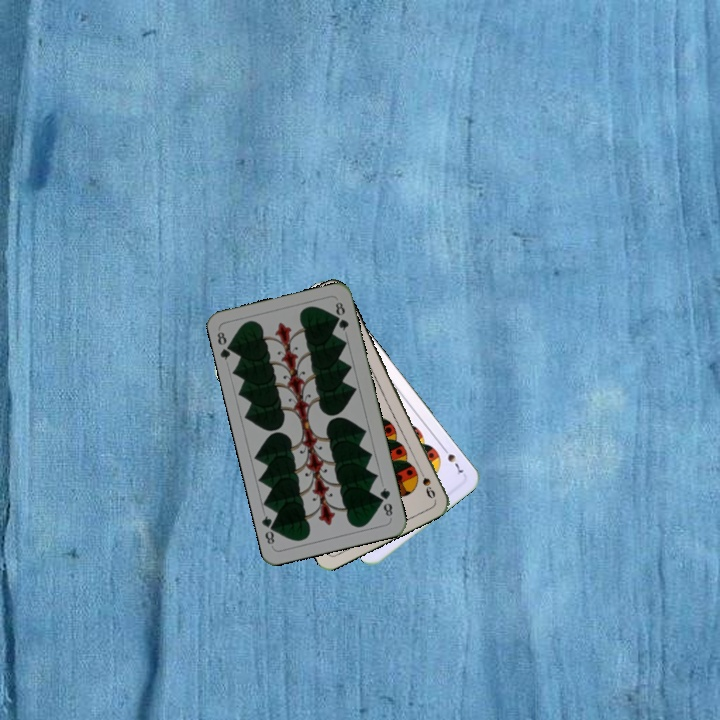G8: (213, 328, 237, 363), (376, 484, 395, 519)
S7: (438, 442, 467, 478)
S9: (414, 463, 438, 502)
